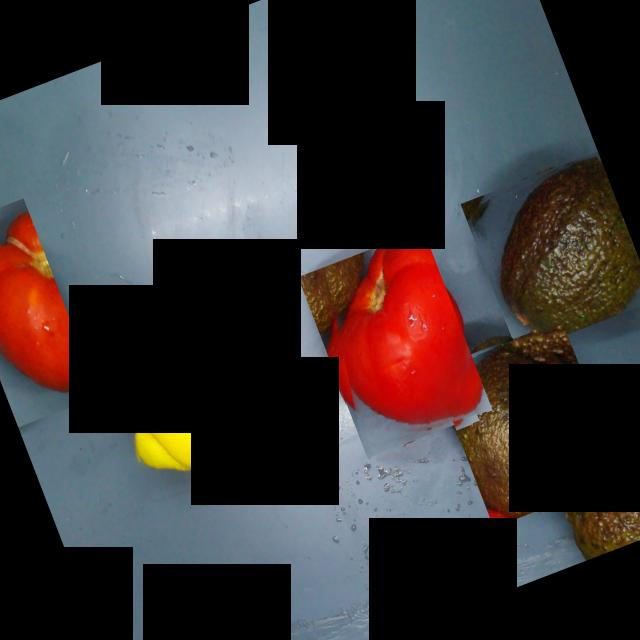avocado: (433, 320, 623, 528), (460, 151, 640, 353), (543, 394, 640, 560)
lemon: (90, 280, 304, 508)
tomatoes: (298, 228, 493, 458), (0, 198, 99, 427)
